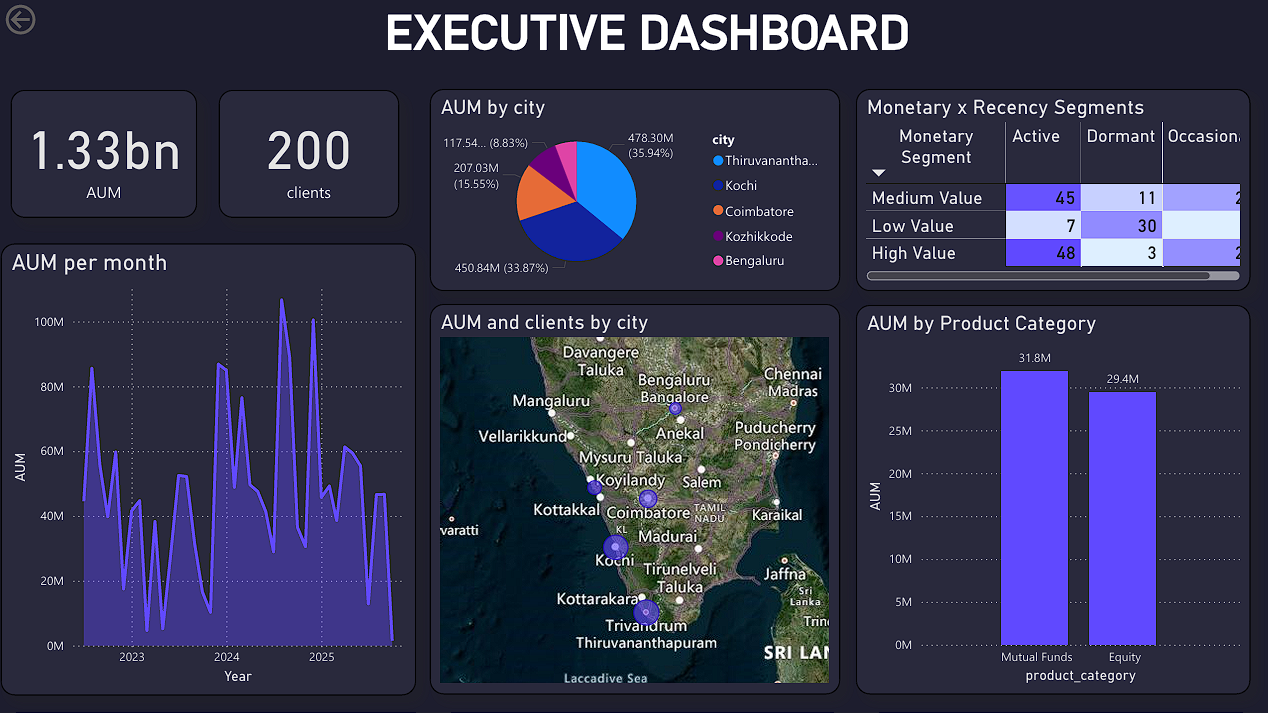

This screenshot's page, from the dashboard's own definition file:
{"tool":"powerbi","page":{"name":"Executive View","canvas":[1280,720],"ordinal":0},"visuals":[{"type":"card","fields":{"Values":["Holdings.TOTAL AUM"]},"box":[9.5,90.6,255.5,128.4],"z":0},{"type":"actionButton","box":[0,0,100,40],"z":1000},{"type":"columnChart","title":"AUM by Product Category","fields":{"Category":["Product (2).product_category"],"Y":["Holdings.AUM"]},"box":[862.6,307.6,398.1,393.3],"z":2000},{"type":"areaChart","title":"AUM per month","fields":{"Y":["Sum(Transactions.amount)"],"Category":["Transactions.date.Variation.Date Hierarchy.Year1","Transactions.date.Variation.Date Hierarchy.Month"]},"box":[0,246.1,418.6,456],"z":3000},{"type":"pivotTable","title":"Monetary x Recency Segments","fields":{"Rows":["Customer (1).Monetary Segment"],"Columns":["Customer (1).Recency_Segment"],"Values":["Customer (1).clients"]},"box":[862.6,90.5,398.1,203.9],"z":4000},{"type":"textbox","box":[254.3,0,795.7,72.9],"z":5000},{"type":"card","fields":{"Values":["Customer (1).clients"]},"box":[281.2,90.6,137.9,128.4],"z":6000},{"type":"pieChart","fields":{"Category":["Customer (1).city"],"Y":["Holdings.AUM"]},"box":[433.1,90.5,413.8,203.9],"z":7000},{"type":"map","fields":{"Category":["Customer (1).city"],"Size":["Holdings.AUM"]},"box":[432.9,307.1,414.3,394.3],"z":8000}]}

Visuals, with their boxes in screenshot pixels (x1, y1, x2, y2), scaled from the page's 1280x720 canvas onto the 1268x713 screenshot:
card - Holdings.TOTAL AUM: BBox(9, 90, 263, 217)
actionButton: BBox(0, 0, 99, 40)
"AUM by Product Category" columnChart: BBox(855, 305, 1249, 694)
"AUM per month" areaChart: BBox(0, 244, 415, 695)
"Monetary x Recency Segments" pivotTable: BBox(855, 90, 1249, 292)
textbox: BBox(252, 0, 1040, 72)
card - Customer (1).clients: BBox(279, 90, 415, 217)
pieChart - Customer (1).city x Holdings.AUM: BBox(429, 90, 839, 292)
map - Customer (1).city x Holdings.AUM: BBox(429, 304, 839, 695)
